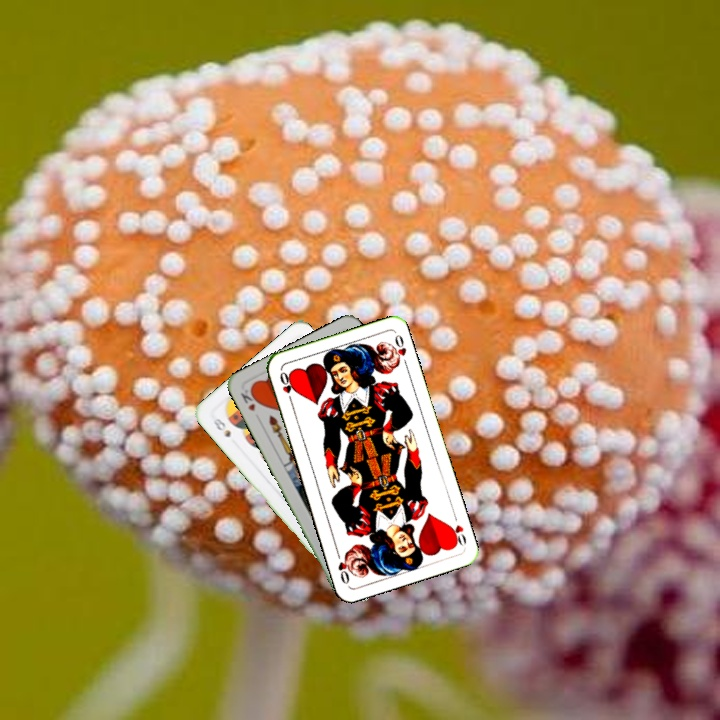HK: (236, 388, 258, 414)
HO: (445, 510, 469, 549), (276, 368, 296, 406)
S8: (209, 414, 233, 440)
